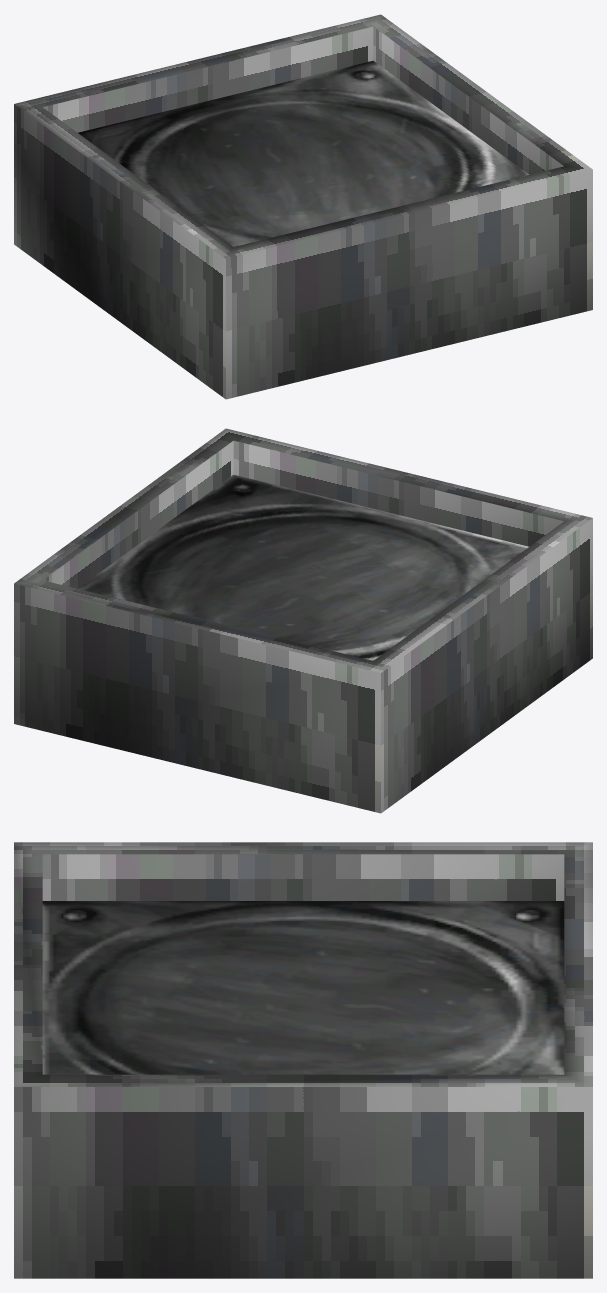
Rendered from INST_SWORDLIGHT_PRESSPLATE.fbx.
3 views of the same model, one above another, from view 1: azimuth 30°, elevation 25°; view 2: azimuth 150°, elevation 25°; view 3: azimuth 270°, elevation 25° (orthographic). The views are drawn at different scales.
Parts seen in each view (by area): view 1: INST_SWORDLIGHT_PRESSPLATE; view 2: INST_SWORDLIGHT_PRESSPLATE; view 3: INST_SWORDLIGHT_PRESSPLATE.
Part boxes in pixels (x1=…): INST_SWORDLIGHT_PRESSPLATE: x1=14, y1=14, x2=592, y2=399; INST_SWORDLIGHT_PRESSPLATE: x1=14, y1=428, x2=592, y2=813; INST_SWORDLIGHT_PRESSPLATE: x1=14, y1=842, x2=592, y2=1278.
Size of the model in its own units: 10986 by 4015 by 10986.
2 materials, 2 textured.
